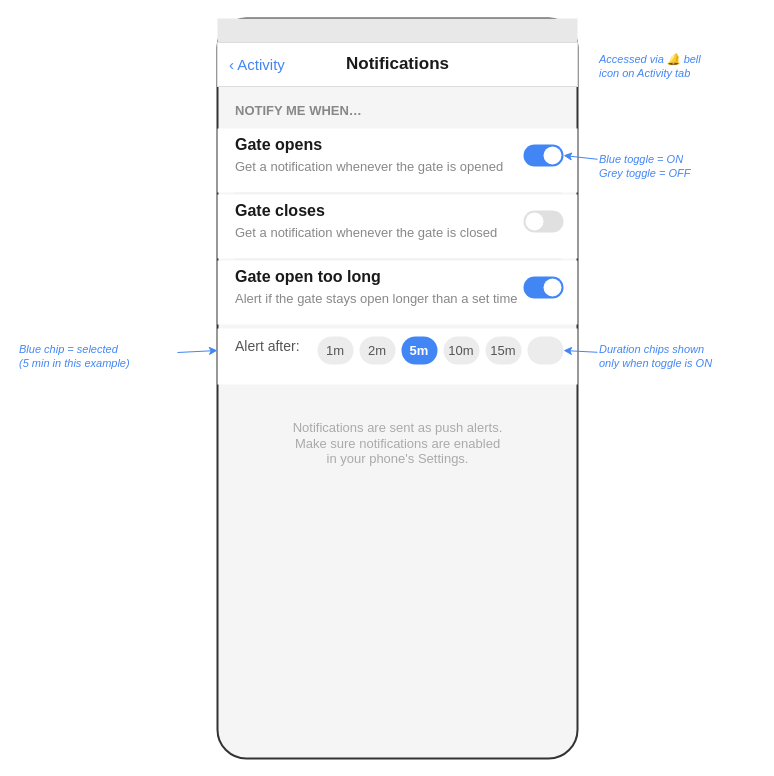
Some shapes in this 774 by 776 pixel diagram are drawn without their labels. The box of each missing label's shape, as (x1, y1, x2, y2) in pixels:
30m: (527, 336, 563, 364)
9:41 AM: (217, 18, 577, 42)
